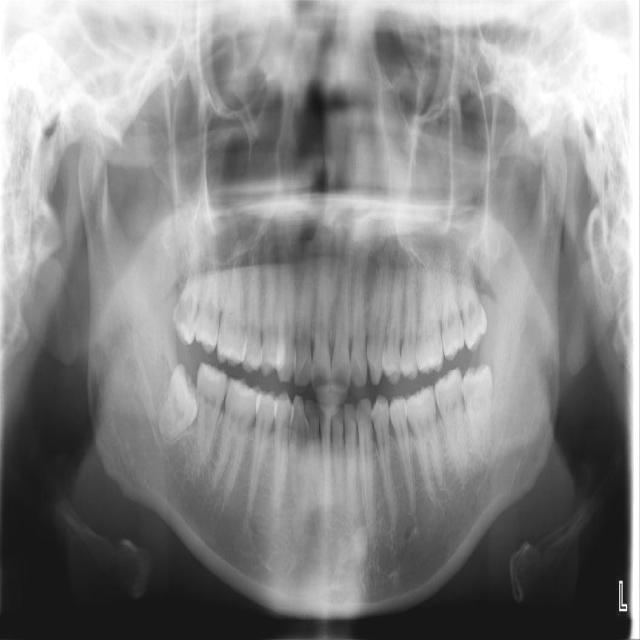impacted tooth: (157, 361, 196, 443), (462, 363, 493, 459)
